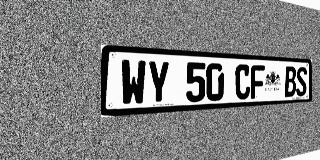0: (206, 63, 224, 101)
5: (186, 62, 206, 102)
B: (285, 66, 296, 97)
C: (235, 64, 250, 100)
F: (250, 65, 264, 99)
S: (296, 67, 307, 96)
W: (120, 59, 146, 106)
Y: (147, 60, 170, 105)
